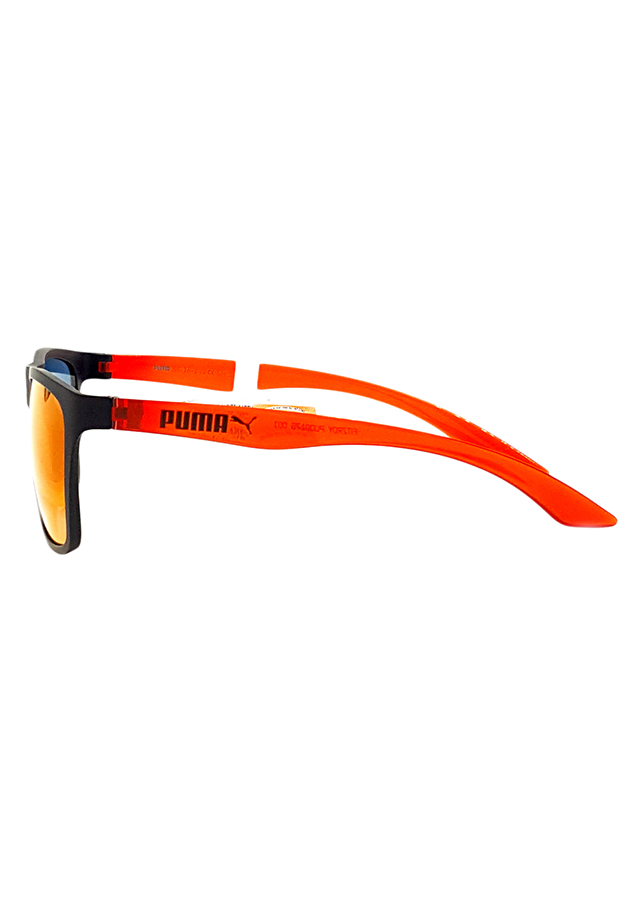Puma: (149, 397, 265, 450)
